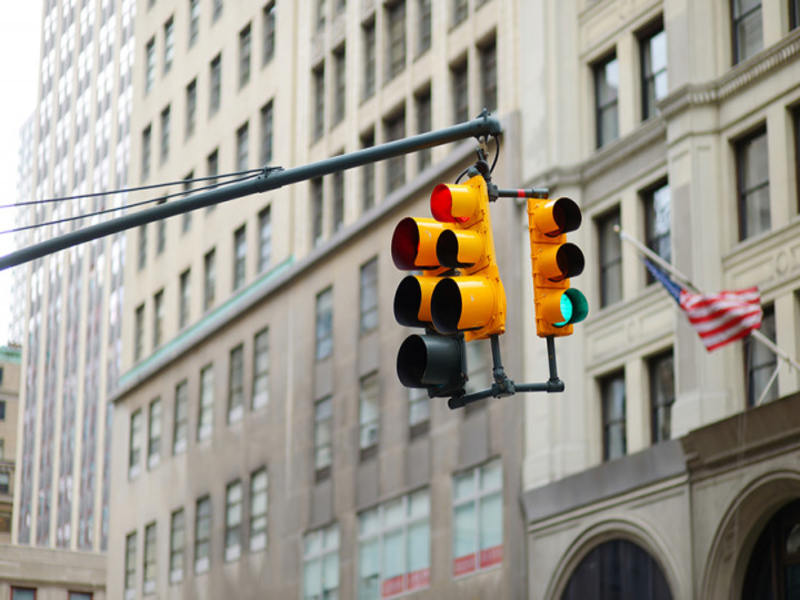traffic_light: (391, 216, 467, 400), (391, 216, 467, 400), (430, 177, 506, 339), (430, 177, 506, 339), (527, 198, 588, 336), (527, 198, 588, 336)
